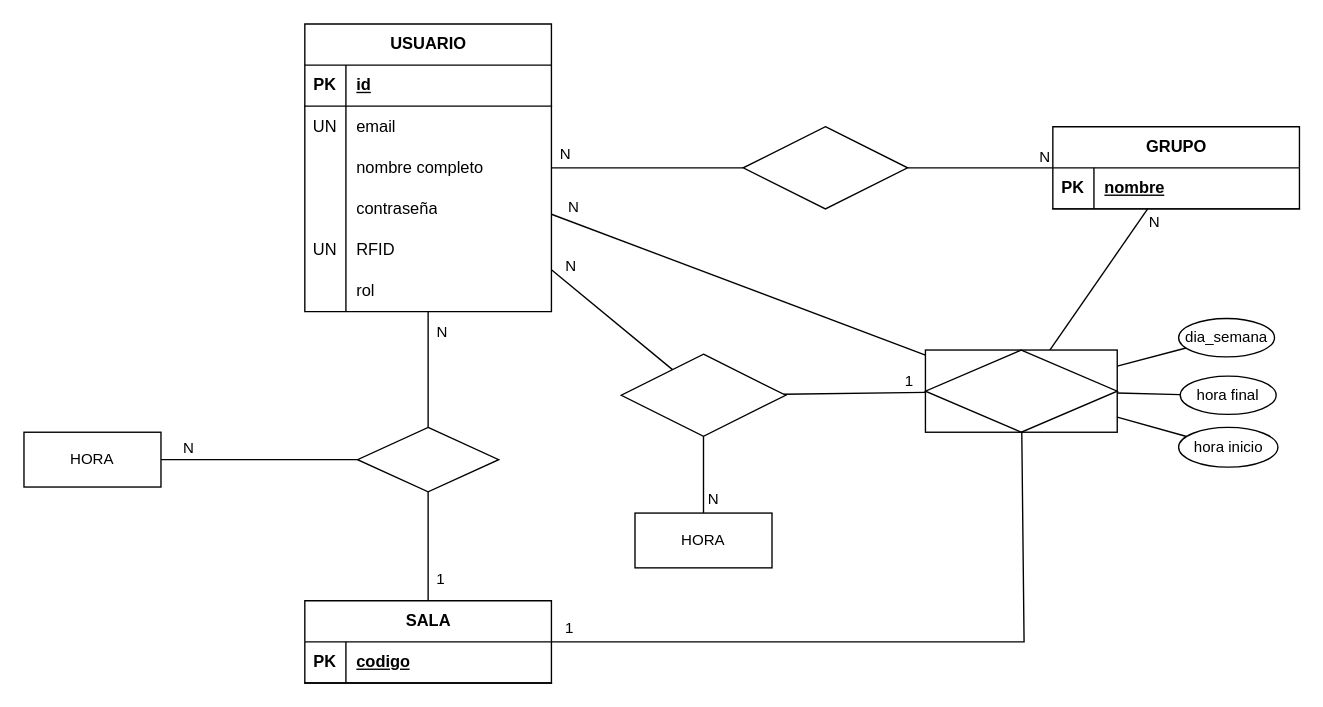
The diagram is 1323 pixels wide and 707 high, and some of its shapes have lost their labels. The centre of each missing label's shape, as x and y in pixels:
"asistir" goes at (703,394).
"checkin" goes at (427,459).
"HORARIO" goes at (1020,390).
"pertenecer" goes at (825,167).
